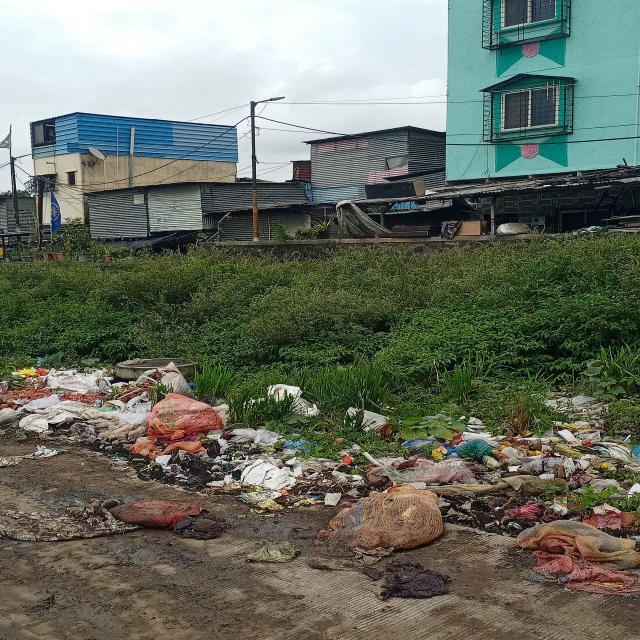garbage: (4, 362, 640, 579)
